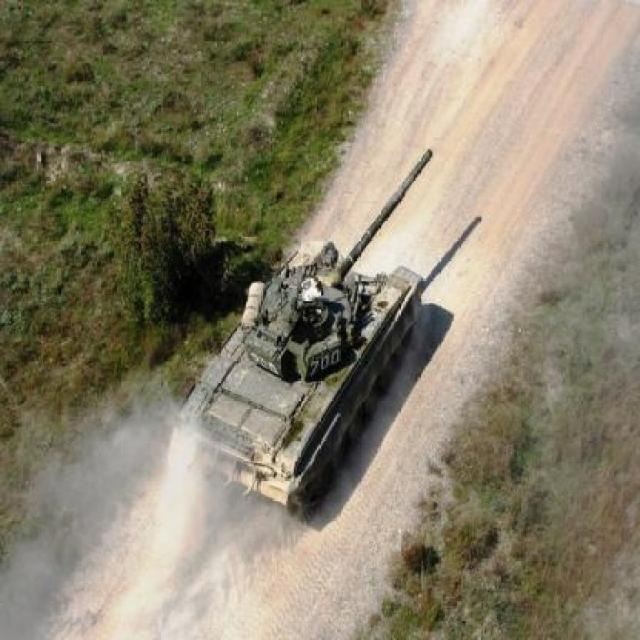Tanks: (178, 150, 433, 521)
